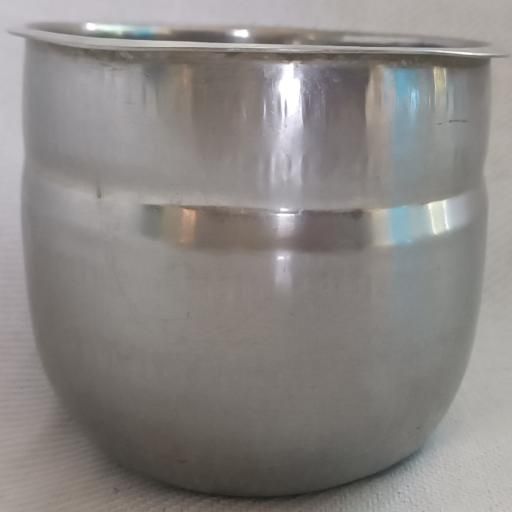vessel: (12, 23, 502, 495)
